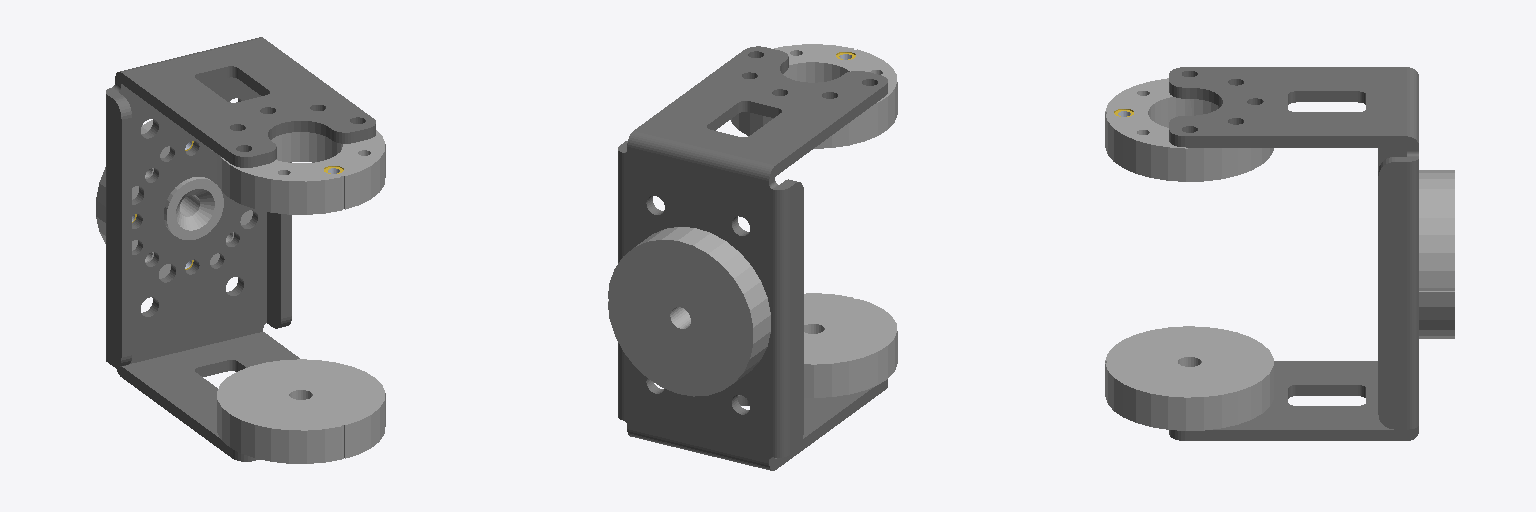
File: Zlink.obj
3 views of the same model, side by side, from view 1: azimuth 30°, elevation 25°; view 2: azimuth 150°, elevation 25°; view 3: azimuth 270°, elevation 25° (orthographic).
Visible parts, largest first — view 1: mesh103, mesh63, mesh146, mesh145, mesh25, mesh115, mesh34, mesh110, mesh33, mesh116, mesh59, mesh149 (+7 smaller); view 2: mesh146, mesh78, mesh63, mesh145, mesh37, mesh34, mesh115, mesh41, mesh110, mesh40, mesh25, mesh27 (+3 smaller); view 3: mesh63, mesh145, mesh146, mesh58, mesh25, mesh115, mesh56, mesh53, mesh110, mesh28, mesh116, mesh41 (+2 smaller).
Part boxes in pixels (bbox=[...]): mesh103: bbox=[119, 77, 266, 363]; mesh63: bbox=[121, 38, 375, 156]; mesh146: bbox=[217, 359, 384, 430]; mesh145: bbox=[96, 120, 385, 463]; mesh25: bbox=[122, 332, 299, 437]; mesh115: bbox=[217, 144, 385, 214]; mesh34: bbox=[107, 95, 121, 367]; mesh110: bbox=[221, 130, 384, 181]; mesh33: bbox=[122, 118, 131, 357]; mesh116: bbox=[271, 132, 342, 162]; mesh59: bbox=[267, 212, 280, 328]; mesh149: bbox=[167, 179, 223, 239]; mesh146: bbox=[608, 240, 896, 396]; mesh78: bbox=[624, 147, 772, 463]; mesh63: bbox=[634, 46, 887, 165]; mesh145: bbox=[636, 227, 897, 397]; mesh37: bbox=[773, 188, 789, 457]; mesh34: bbox=[790, 182, 803, 454]; mesh115: bbox=[731, 82, 897, 148]; mesh41: bbox=[627, 131, 774, 180]; mesh110: bbox=[774, 44, 896, 102]; mesh40: bbox=[769, 87, 883, 184]; mesh25: bbox=[738, 387, 873, 458]; mesh27: bbox=[769, 382, 883, 470]; mesh63: bbox=[1169, 67, 1406, 135]; mesh145: bbox=[1105, 170, 1454, 430]; mesh146: bbox=[1105, 326, 1273, 397]; mesh58: bbox=[1378, 162, 1406, 429]; mesh25: bbox=[1213, 361, 1393, 429]; mesh115: bbox=[1105, 114, 1273, 181]; mesh56: bbox=[1407, 159, 1418, 429]; mesh53: bbox=[1190, 136, 1418, 150]; mesh110: bbox=[1105, 78, 1187, 148]; mesh28: bbox=[1190, 426, 1418, 440]; mesh116: bbox=[1148, 97, 1219, 127]; mesh41: bbox=[1407, 67, 1418, 142].
Size of the model in its own units: 0.024 by 0.0415 by 0.0426.